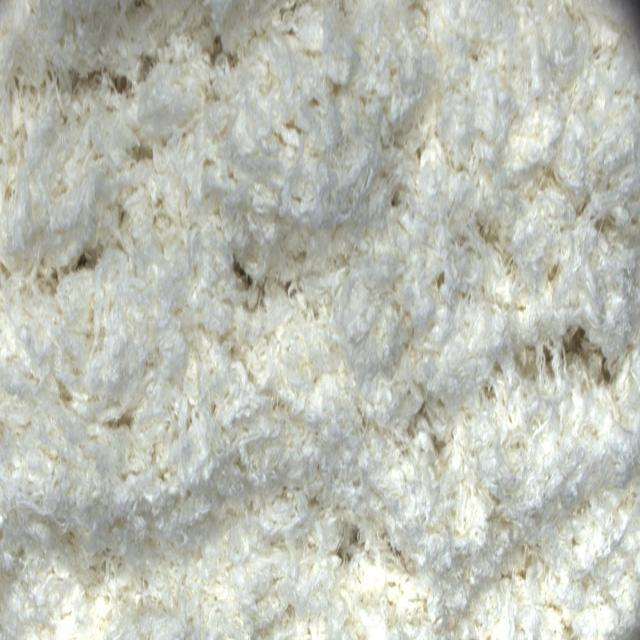dust: (562, 321, 593, 372)
